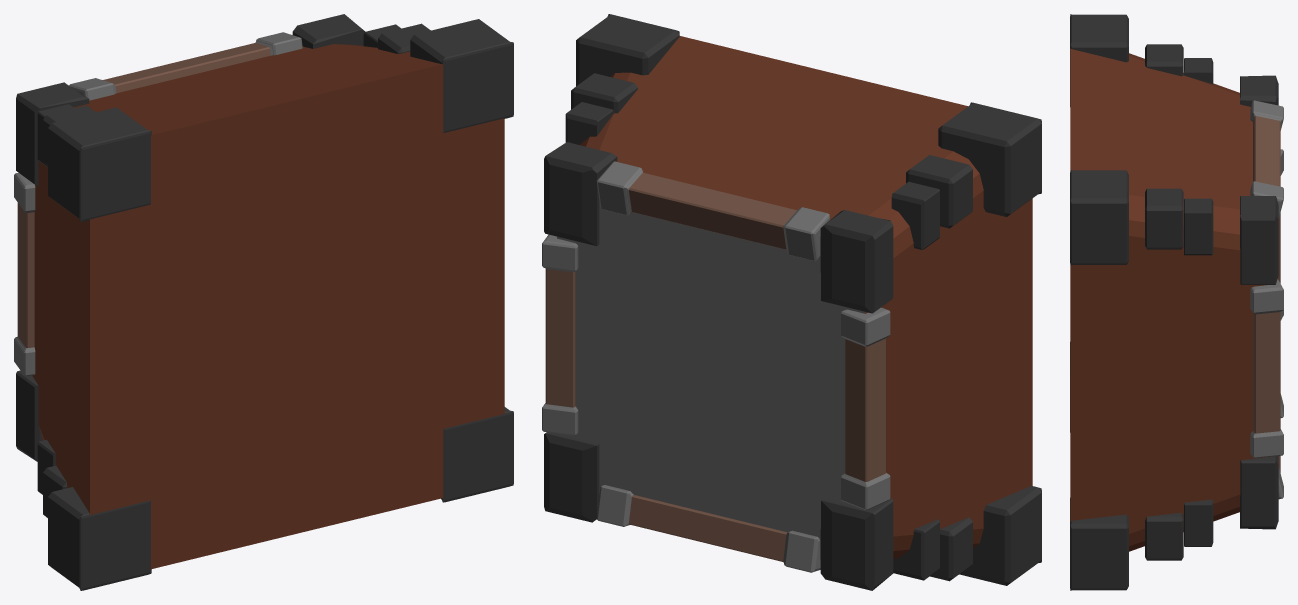
Rendered from Tower_Base.fbx.
The picture shows the model from 3 angles, left to right: view 1: azimuth 30°, elevation 25°; view 2: azimuth 150°, elevation 25°; view 3: azimuth 270°, elevation 25°; orthographic projection. The views are drawn at different scales.
Parts seen in each view (by area): view 1: Tower_Base.Export; view 2: Tower_Base.Export; view 3: Tower_Base.Export.
Part boxes in pixels (x1,y1,x2,y2): Tower_Base.Export: (14, 14, 513, 590); Tower_Base.Export: (542, 14, 1041, 590); Tower_Base.Export: (1070, 14, 1283, 590).
Size of the model in its own units: 319 by 646 by 660.
